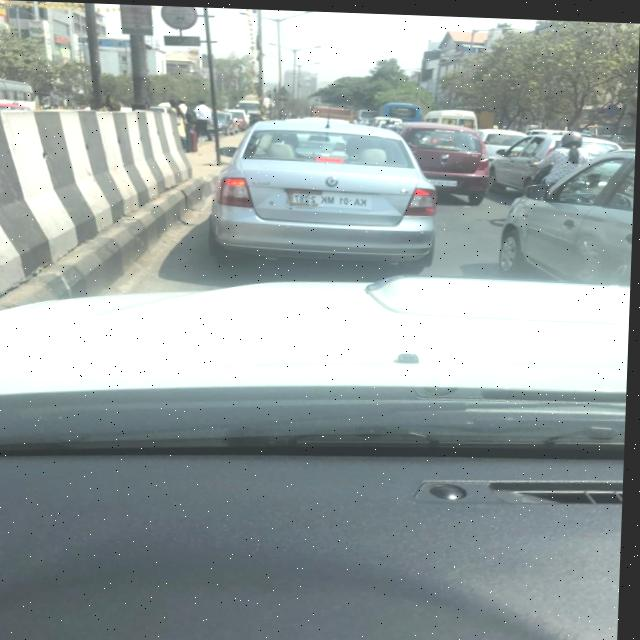plate: (288, 187, 378, 208)
